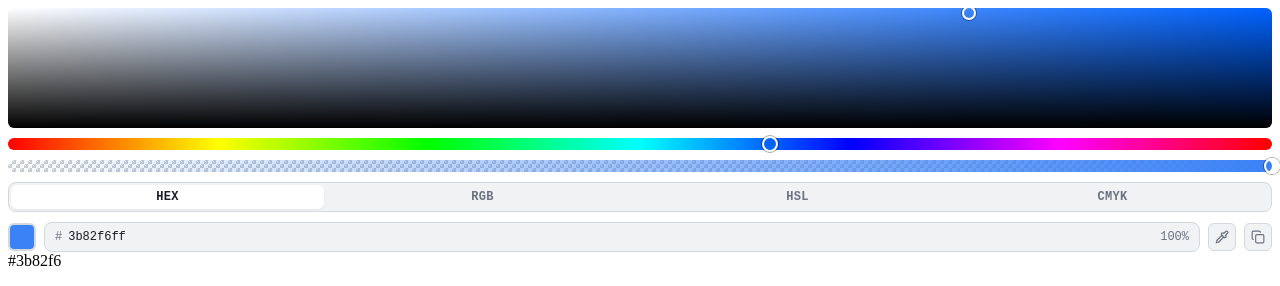
Test case: ColorPicker — alpha › reads a six-digit entry as fully opaque when alpha is on
Replace the text in the field with placeholder "rrggbbaa" with "ff0000" at (606, 237), box [66, 229, 1145, 245]
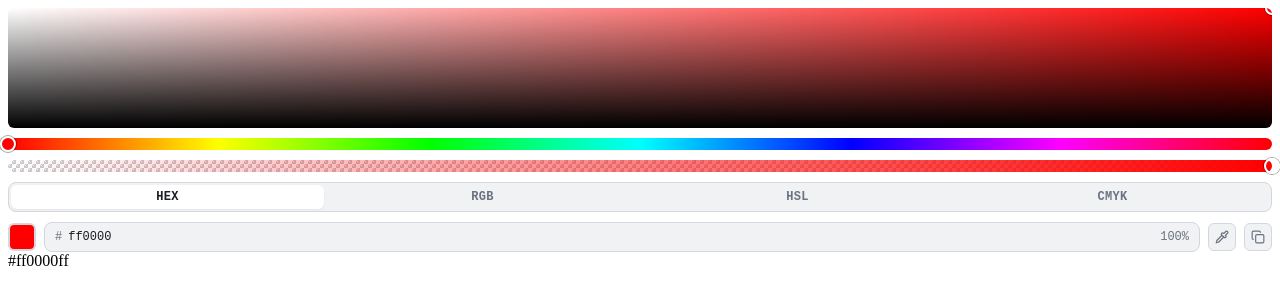
Expected: the text with test id "color" reads "#ff0000ff", [8, 252, 69, 269]
